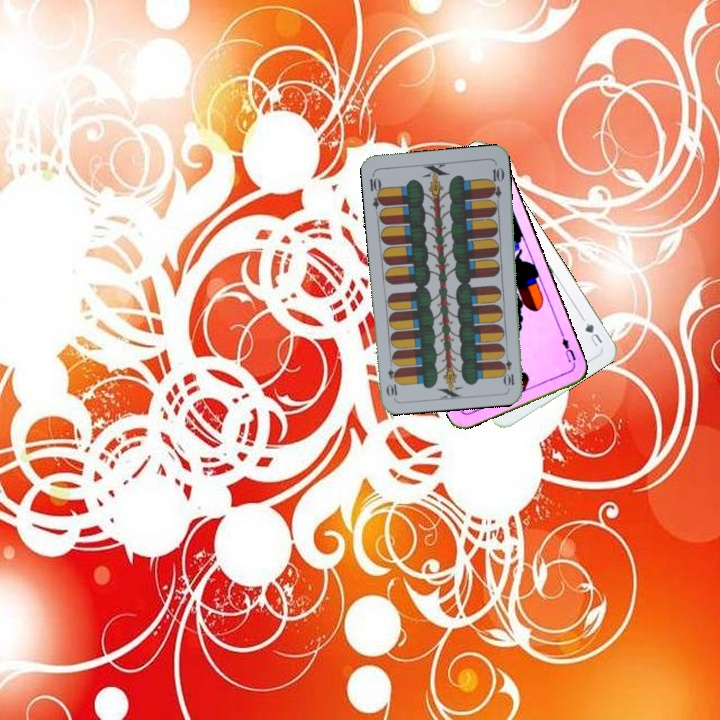E10: (365, 170, 387, 210), (500, 348, 517, 389)
EU: (557, 330, 578, 365)
GU: (578, 313, 605, 349)
